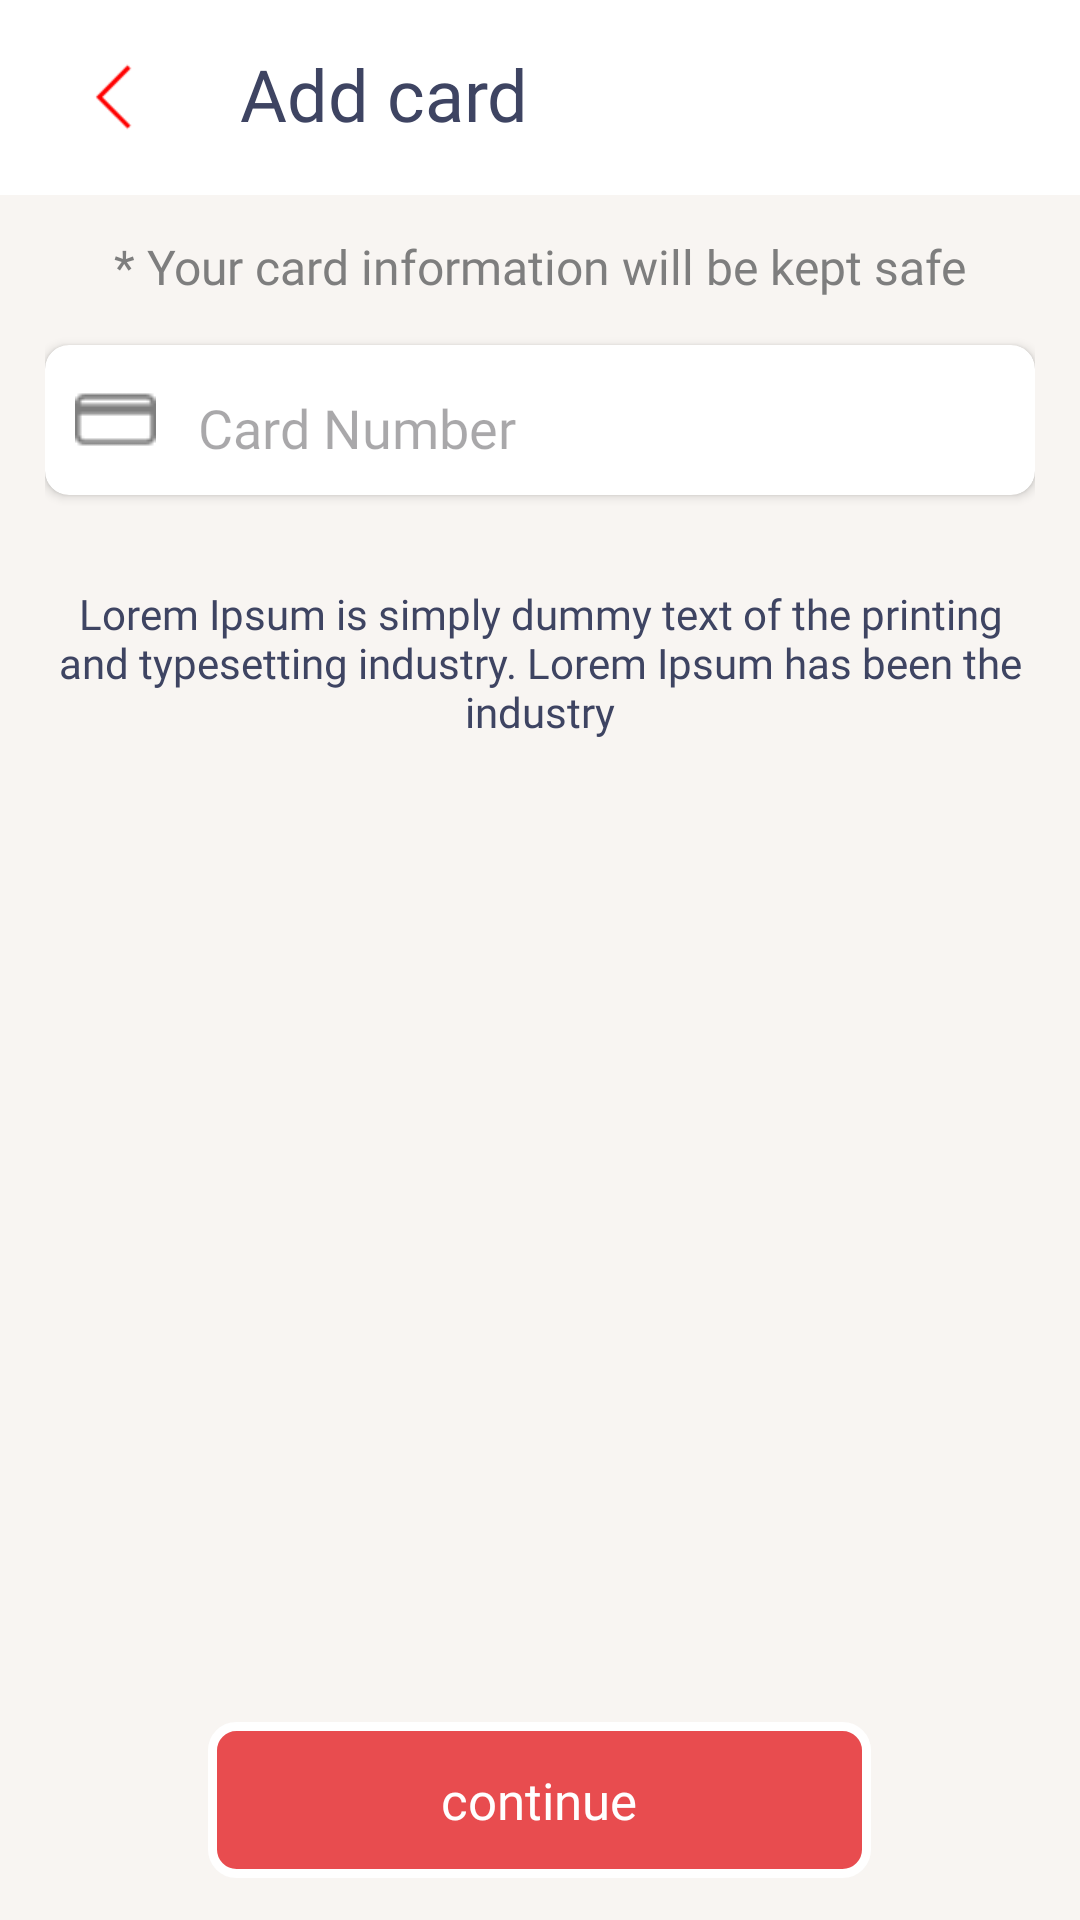

Icon click points for this 1080 × 1920 phone screenshot, format point (x, y):
back: point (113, 97)
